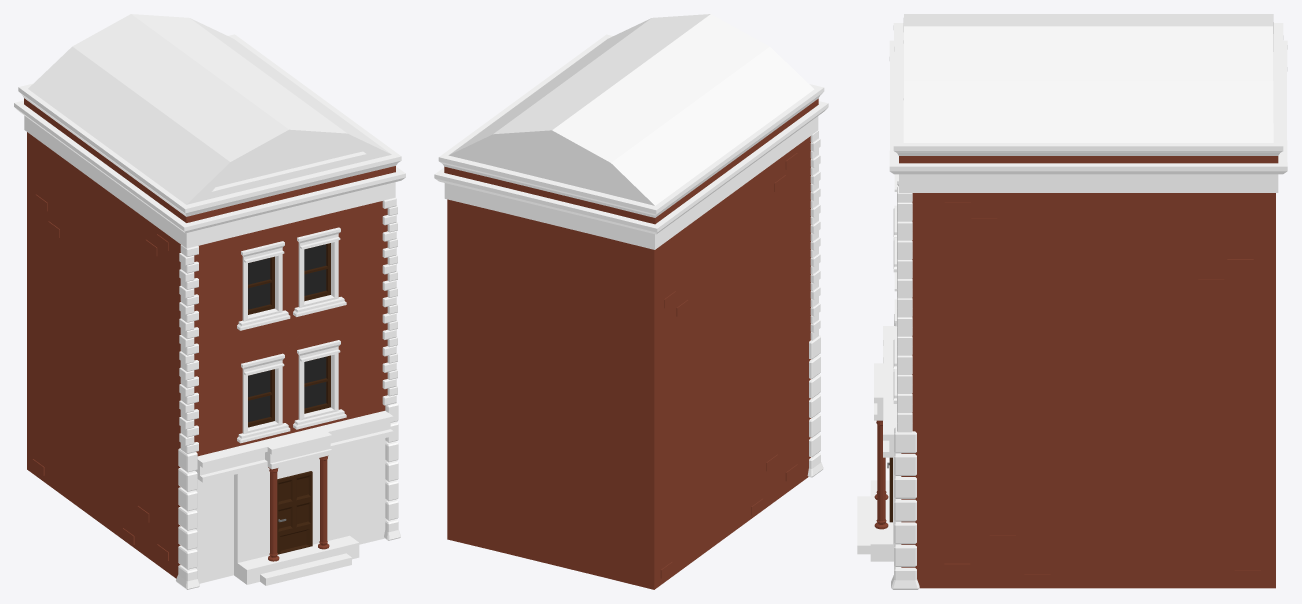
File: Building3_Small.glb
3 views of the same model, side by side, from view 1: azimuth 30°, elevation 25°; view 2: azimuth 150°, elevation 25°; view 3: azimuth 270°, elevation 25° (orthographic). The views are drawn at different scales.
Visible parts, largest first — view 1: Building3_Small; view 2: Building3_Small; view 3: Building3_Small.
Part boxes in pixels (box(x1,y1,x2,y2)): Building3_Small: box(14, 14, 405, 589); Building3_Small: box(434, 14, 828, 589); Building3_Small: box(857, 14, 1287, 589).
Bounding box in the file's own units: 305 × 568 × 440.
